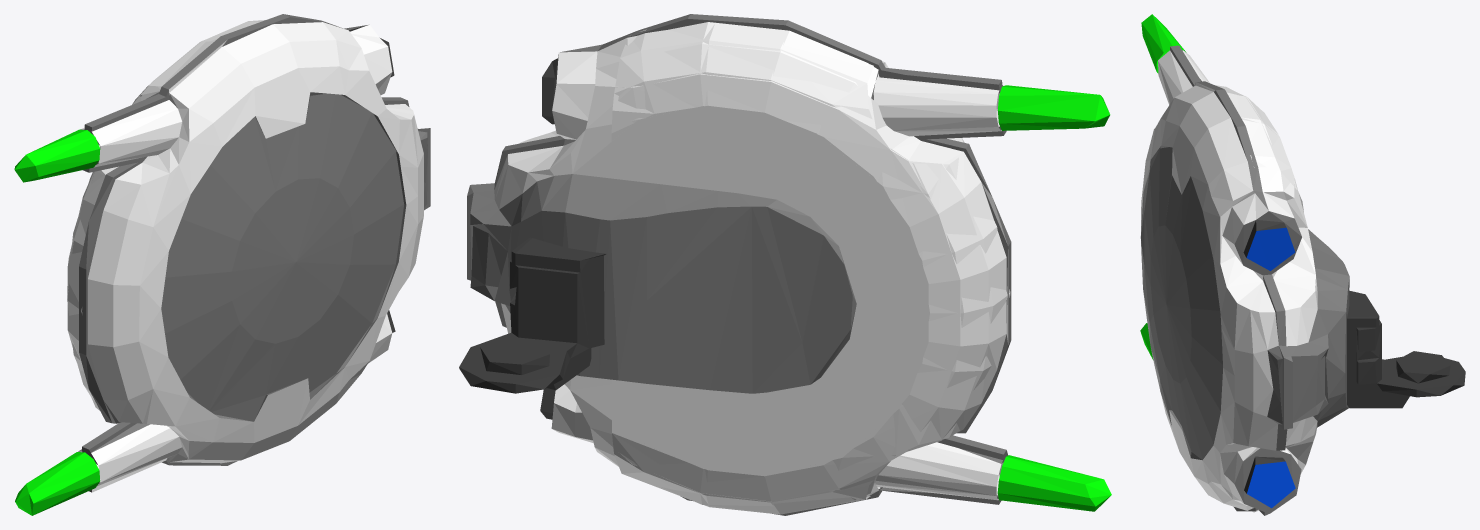
The model's file is HEAD_JOINT1_Link_mesh.obj.
The picture shows the model from 3 angles, left to right: view 1: azimuth 30°, elevation 25°; view 2: azimuth 150°, elevation 25°; view 3: azimuth 270°, elevation 25°; orthographic projection. The views are drawn at different scales.
Parts seen in each view (by area): view 1: root, root.003, root.001; view 2: root.003, root, root.004, root.001; view 3: root.003, root, root.004, root.002, root.001.
Boxes of the visible parts, left/top/right/bottom form: root: left=79, top=14, right=430, bottom=492; root.003: left=67, top=20, right=423, bottom=492; root.001: left=14, top=129, right=100, bottom=515; root.003: left=494, top=22, right=1010, bottom=514; root: left=467, top=14, right=1011, bottom=515; root.004: left=459, top=58, right=606, bottom=419; root.001: left=997, top=85, right=1111, bottom=511; root.003: left=1140, top=50, right=1317, bottom=512; root: left=1140, top=45, right=1349, bottom=515; root.004: left=1243, top=220, right=1465, bottom=493; root.002: left=1246, top=227, right=1295, bottom=508; root.001: left=1140, top=14, right=1186, bottom=359.
Bounding box in the file's own units: 0.2755 × 0.2308 × 0.1739.
